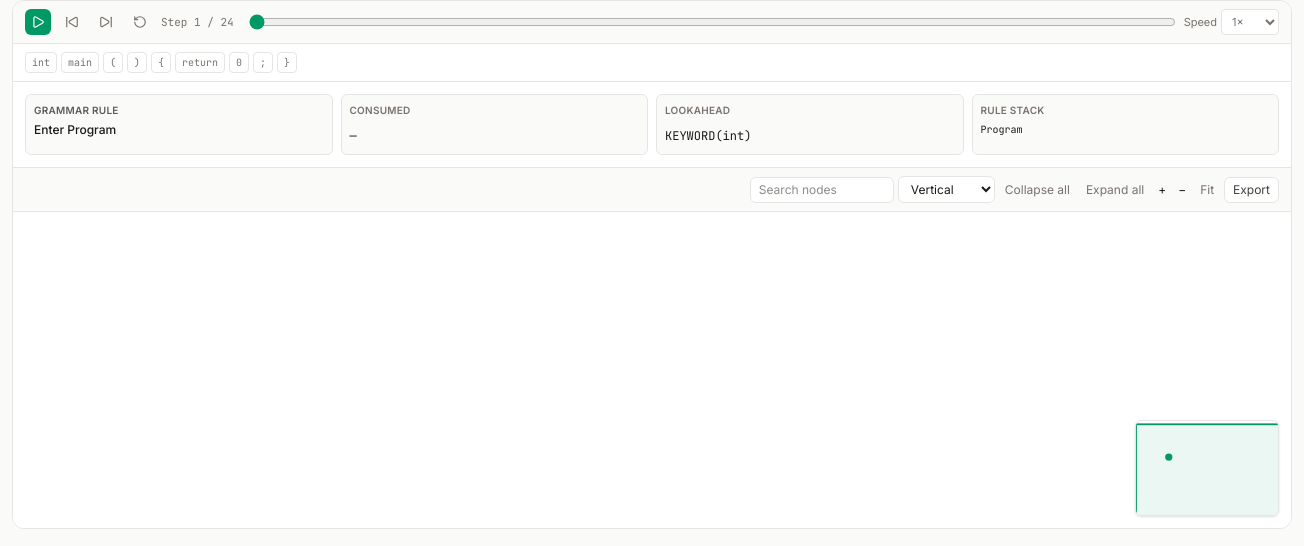
Scenario: TreeCanvas › TracePlayer › steps through parser events with controls and keyboard input
Click the button named "Next step".
click(106, 22)  # box [93,9,119,35]
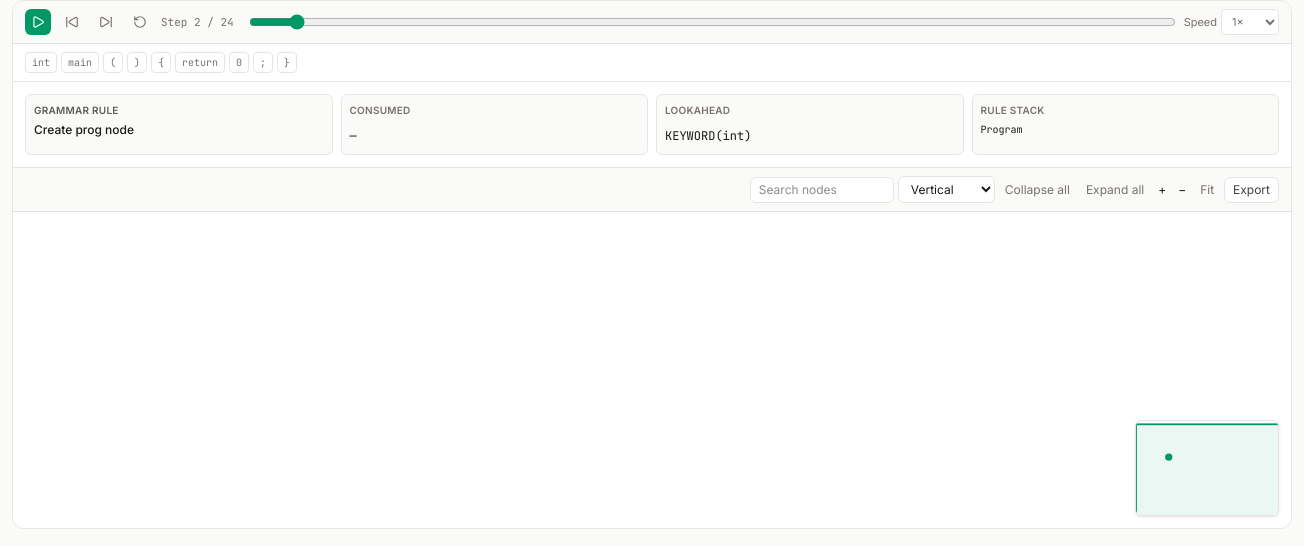
Press ArrowLeft
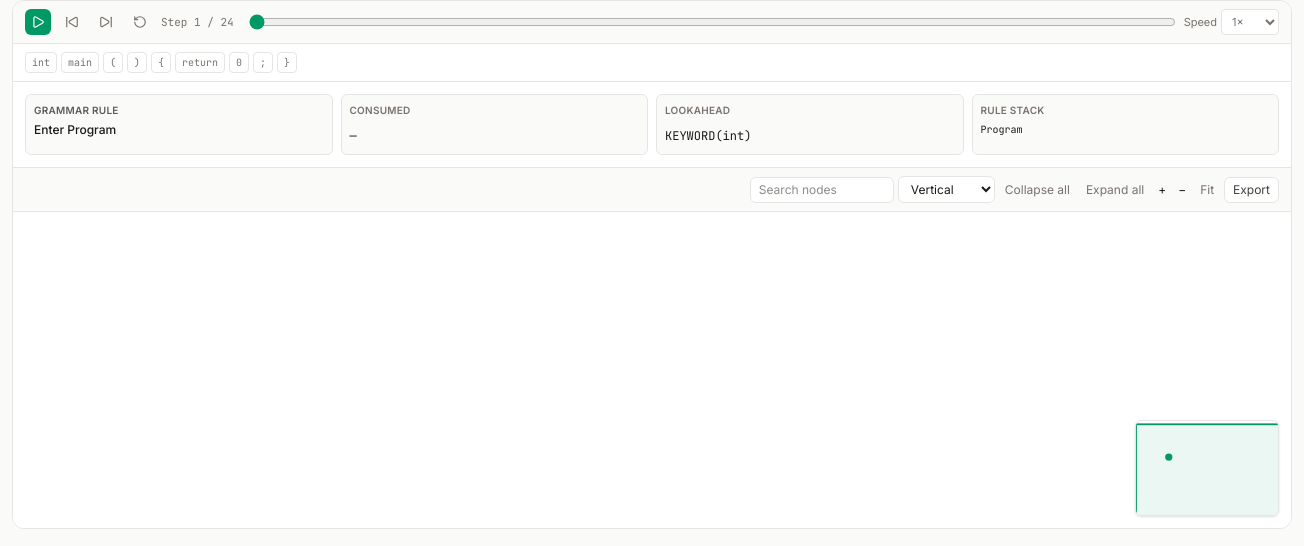
Click the button named "Play".
click(38, 22)  # box [25,9,51,35]
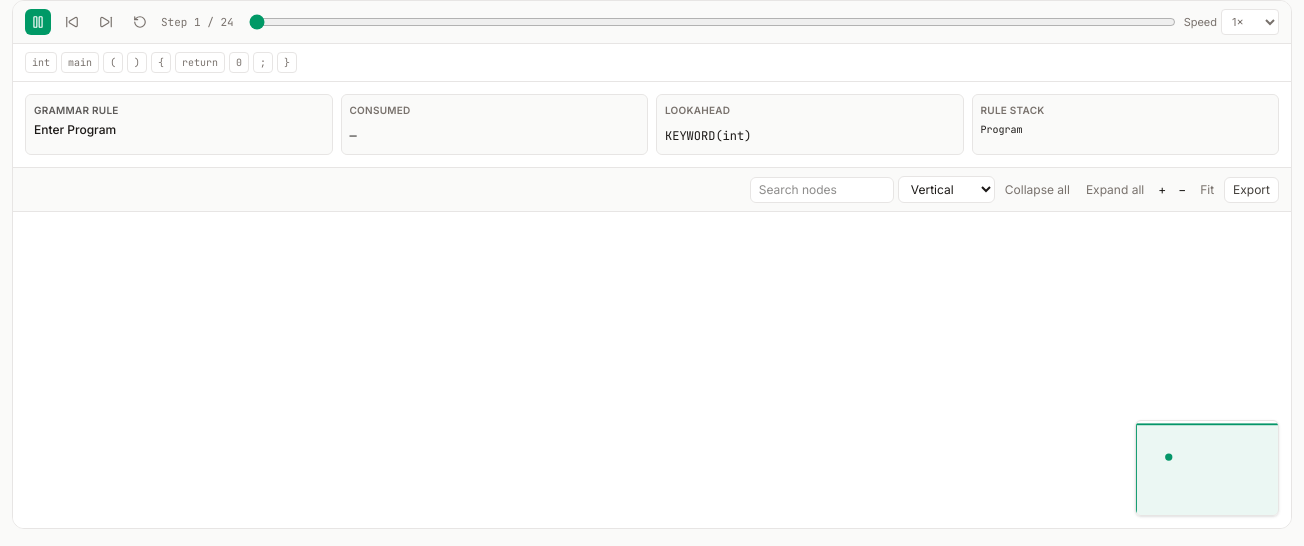
Check: the button named "Pause" is shown, box [25,9,51,35]
